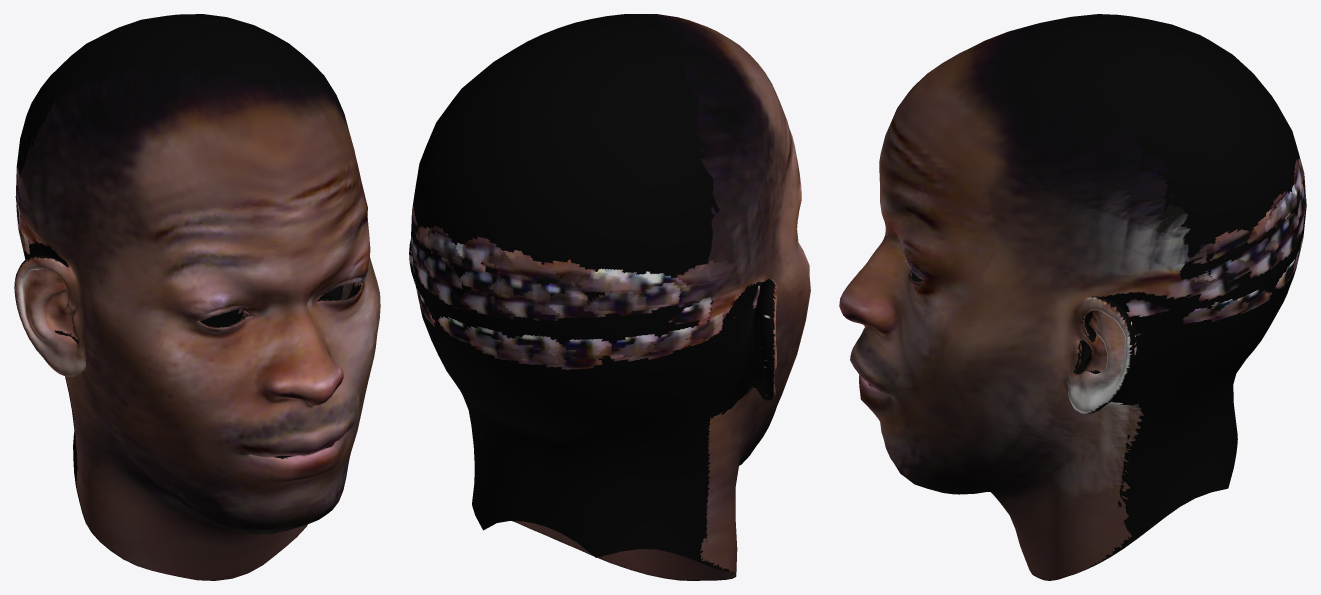
The model's file is BrowsUp.obj.
3 renders of one model, left to right at view 1: azimuth 30°, elevation 25°; view 2: azimuth 150°, elevation 25°; view 3: azimuth 270°, elevation 25°, orthographic. The views are drawn at different scales.
Bounding box in the file's own units: 191 × 281 × 224.
